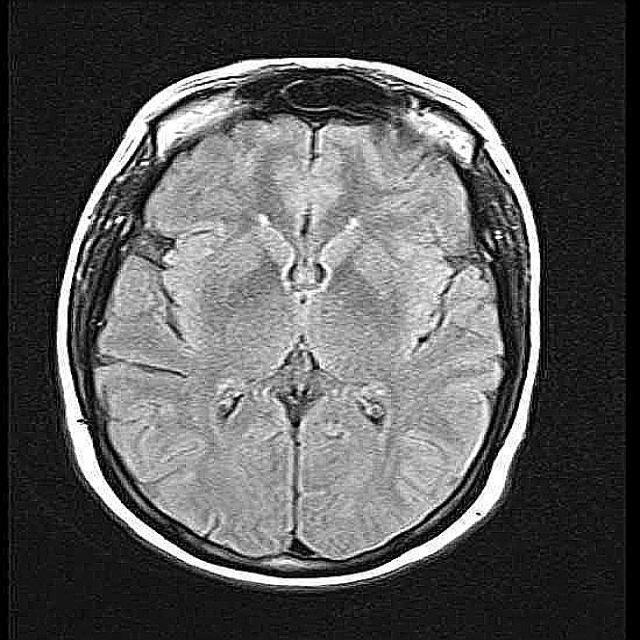notumor: (56, 62, 541, 593)
